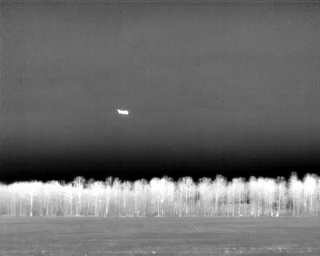DRONE: (113, 104, 133, 120)
